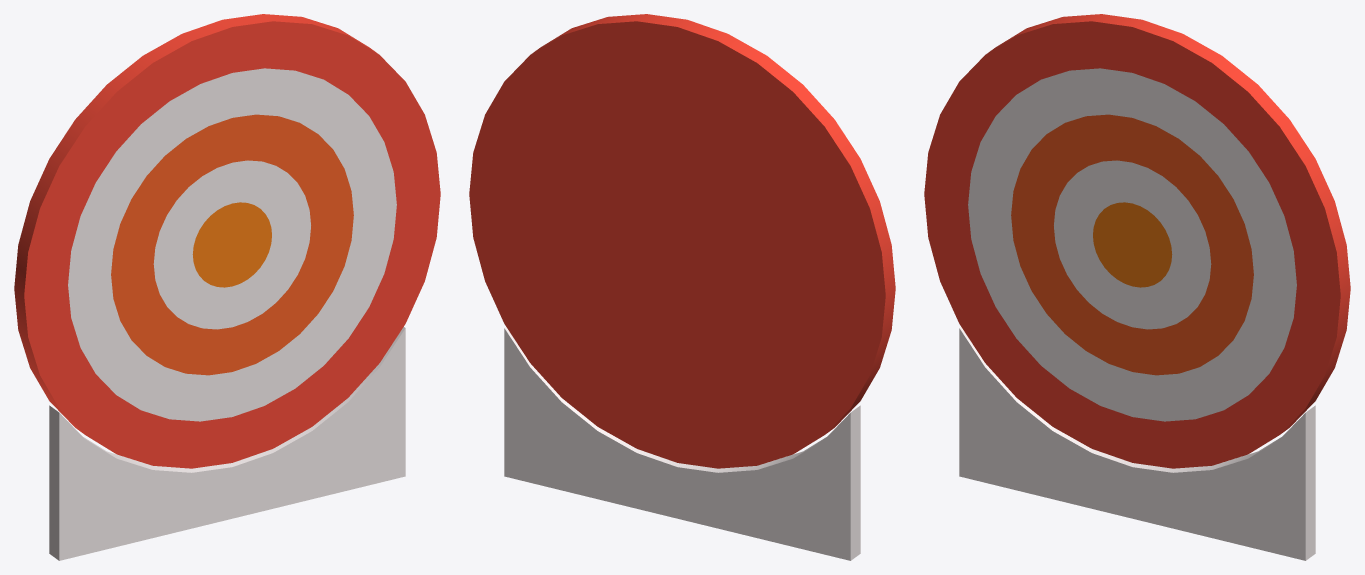
File: ShootingTarget.fbx
The picture shows the model from 3 angles, left to right: view 1: azimuth 30°, elevation 25°; view 2: azimuth 150°, elevation 25°; view 3: azimuth 330°, elevation 25°; orthographic projection.
Visible parts, largest first — view 1: ShootingTarget; view 2: ShootingTarget; view 3: ShootingTarget.
Part boxes in pixels (x1,y1,x2,y2): ShootingTarget: (14,14,440,560); ShootingTarget: (469,14,895,560); ShootingTarget: (924,14,1350,560).
Bounding box in the file's own units: 200 × 226 × 8.27.
